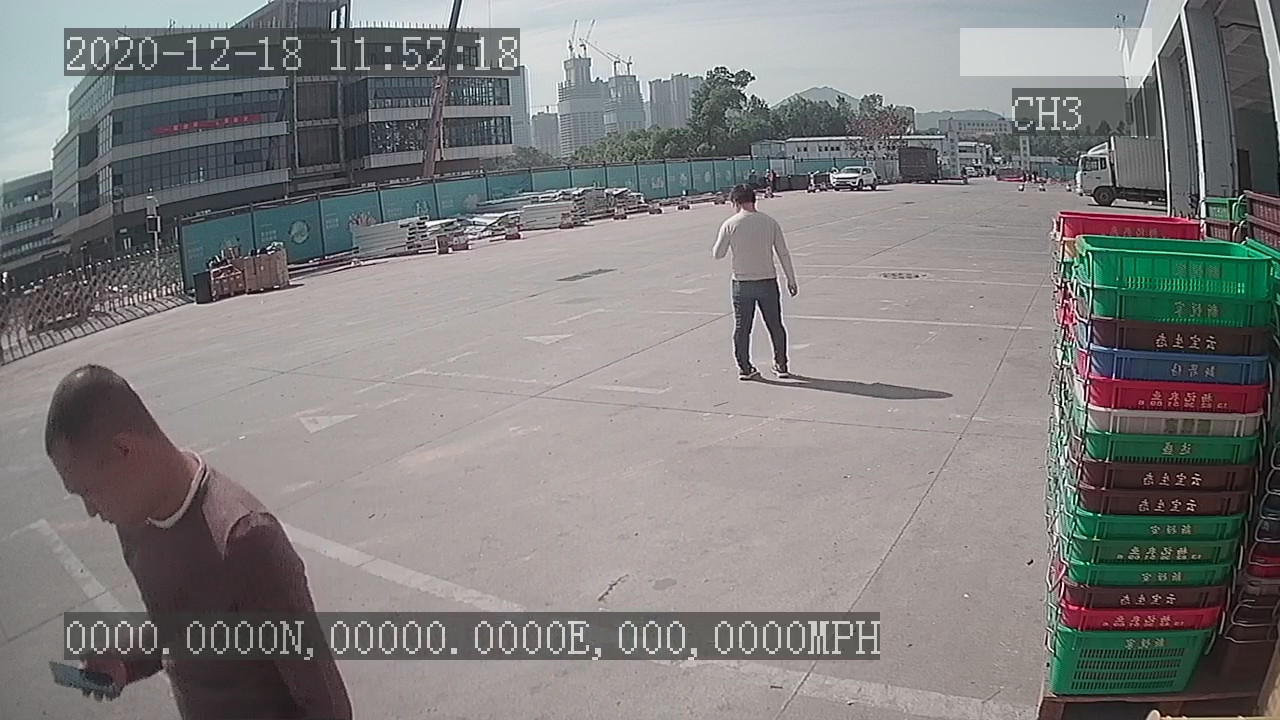person: (704, 183, 804, 385)
